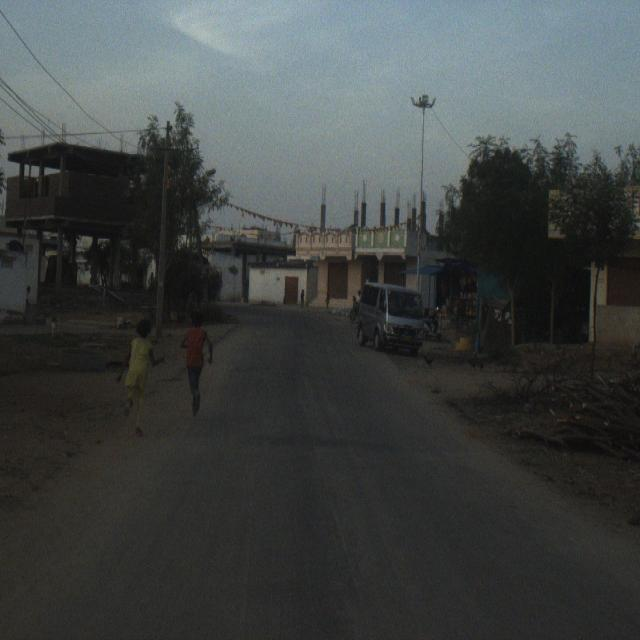high: (114, 311, 168, 454), (177, 307, 223, 427)
